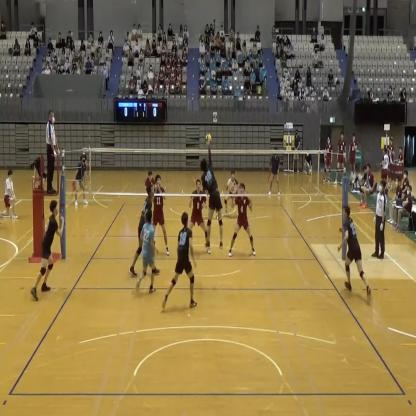spike: (198, 130, 226, 251)
